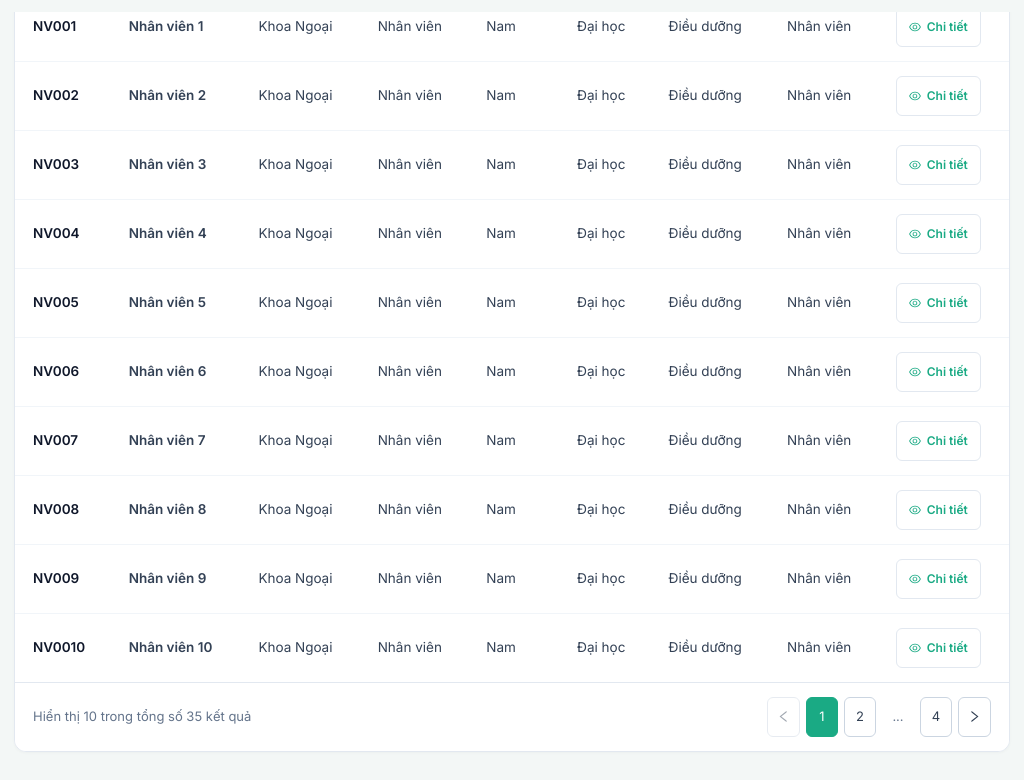
Test: ReferenceEmployeesListPage - phân trang › quay về trang đầu khi đổi bộ lọc
(page scrolled)
Expected: the text "Nhân viên 1" is shown, x1=129 y1=18 x2=204 y2=34
Step 1. Click the button "2" → (860, 717), box x1=844 y1=697 x2=876 y2=737
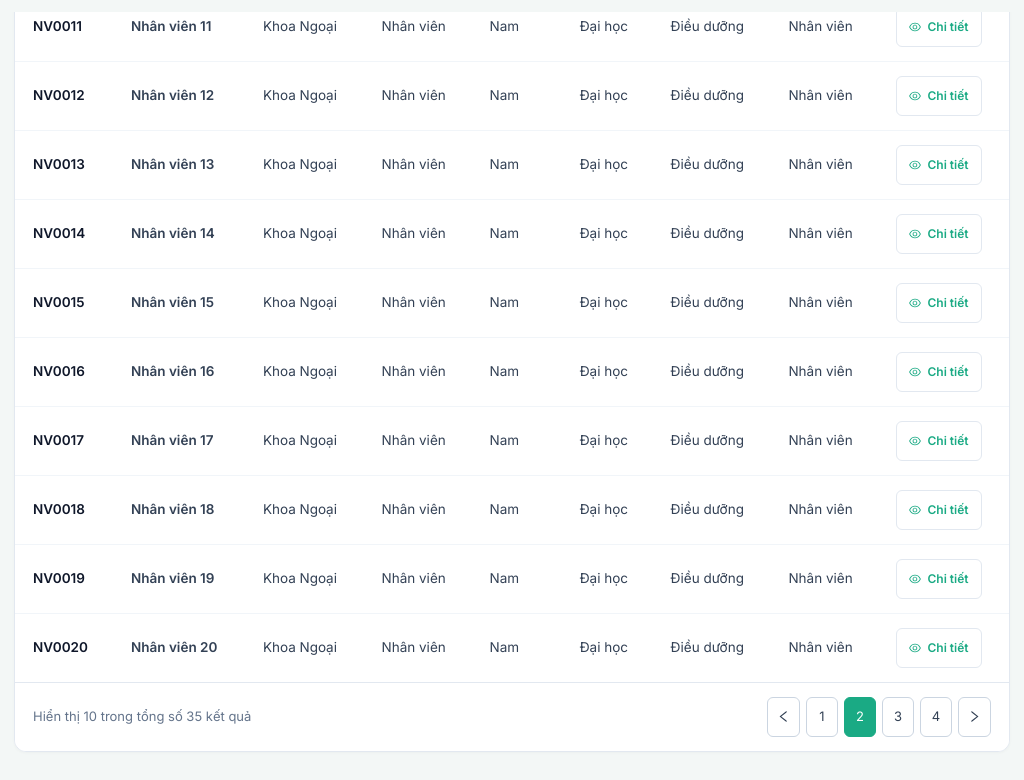
Expected: the text "Nhân viên 11" is shown, x1=131 y1=18 x2=212 y2=34
Step 2. Click the button "3" → (898, 717), box x1=882 y1=697 x2=914 y2=737
(page scrolled)
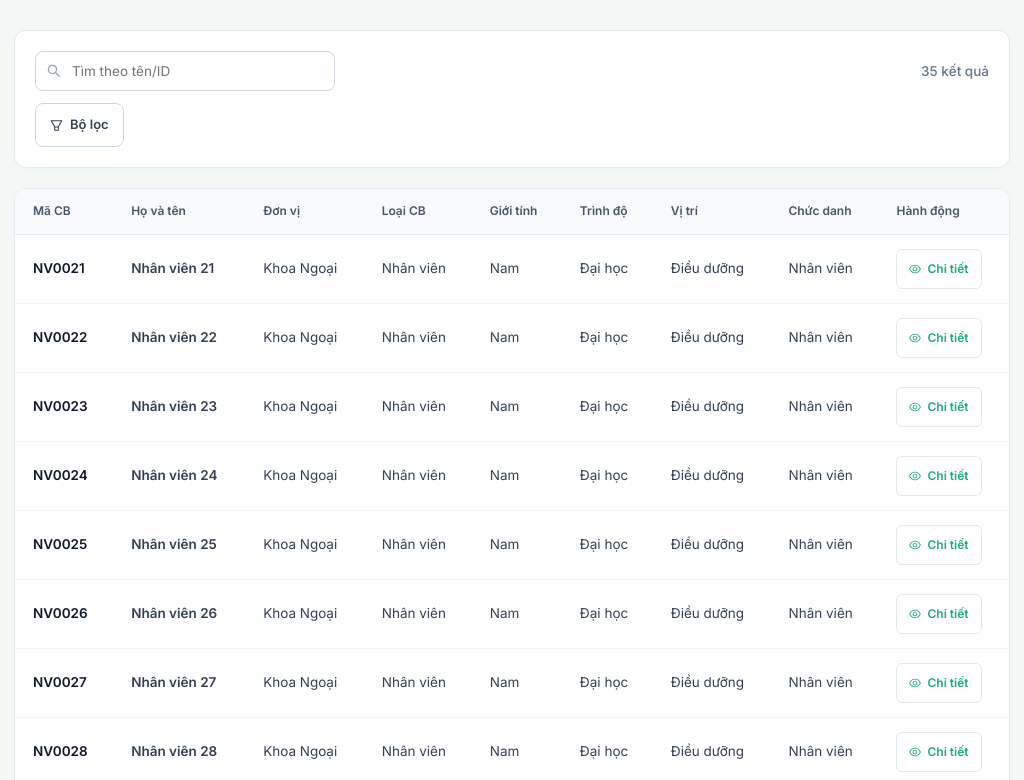
Expected: the text "Nhân viên 21" is shown, x1=131 y1=260 x2=214 y2=276
Step 3. Type "Nhân viên 1" into the field with placeholder "Tìm theo tên/ID" → (185, 71), box x1=35 y1=51 x2=335 y2=91
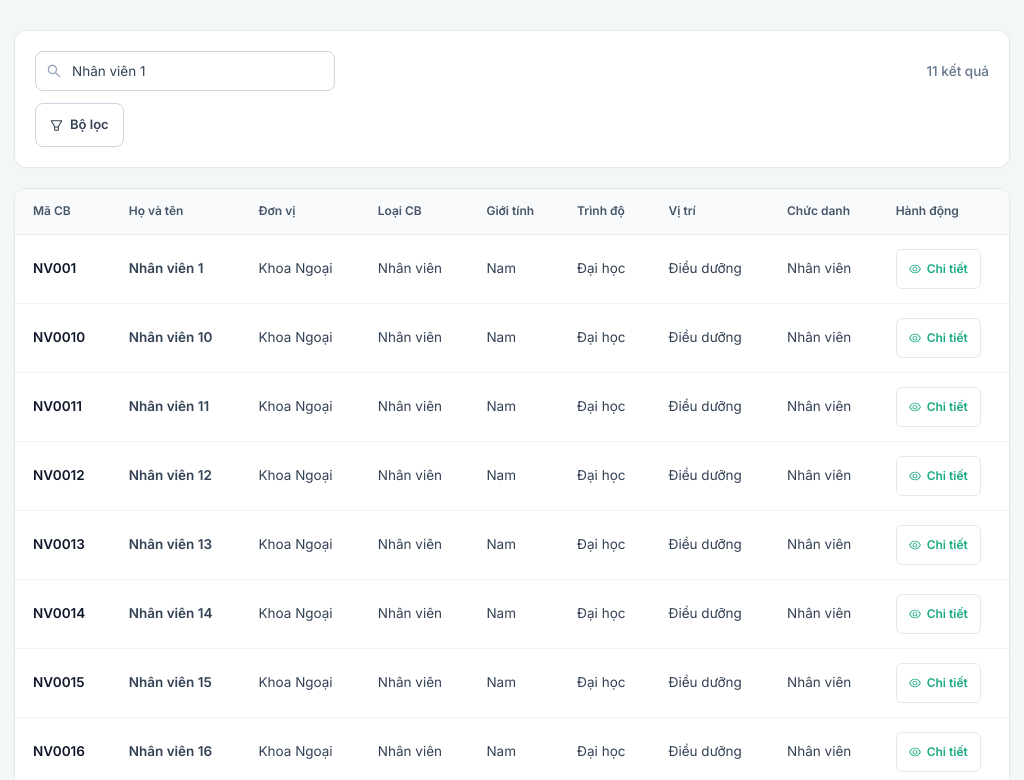
Expected: the text "Nhân viên 1" is shown, x1=129 y1=260 x2=204 y2=276
